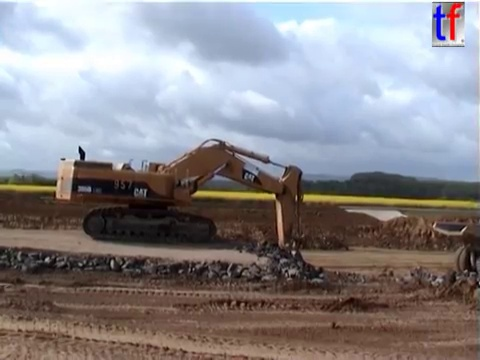excavator: (52, 136, 312, 287)
truck: (428, 219, 480, 281)
